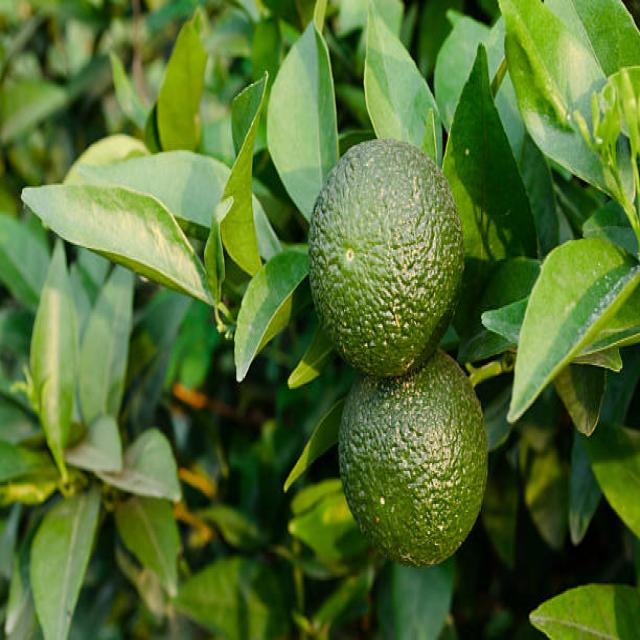Unripe: (310, 140, 462, 381), (342, 348, 489, 571)
